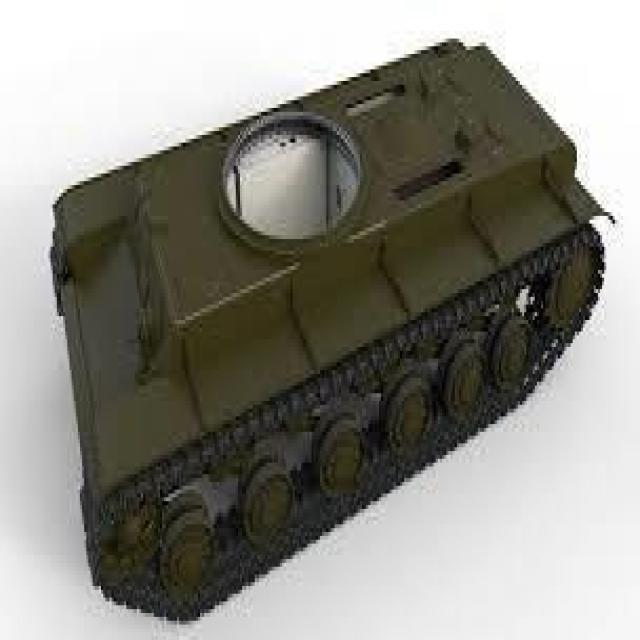Tanks: (61, 31, 621, 621)
